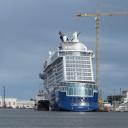cruises: (42, 34, 101, 113)
